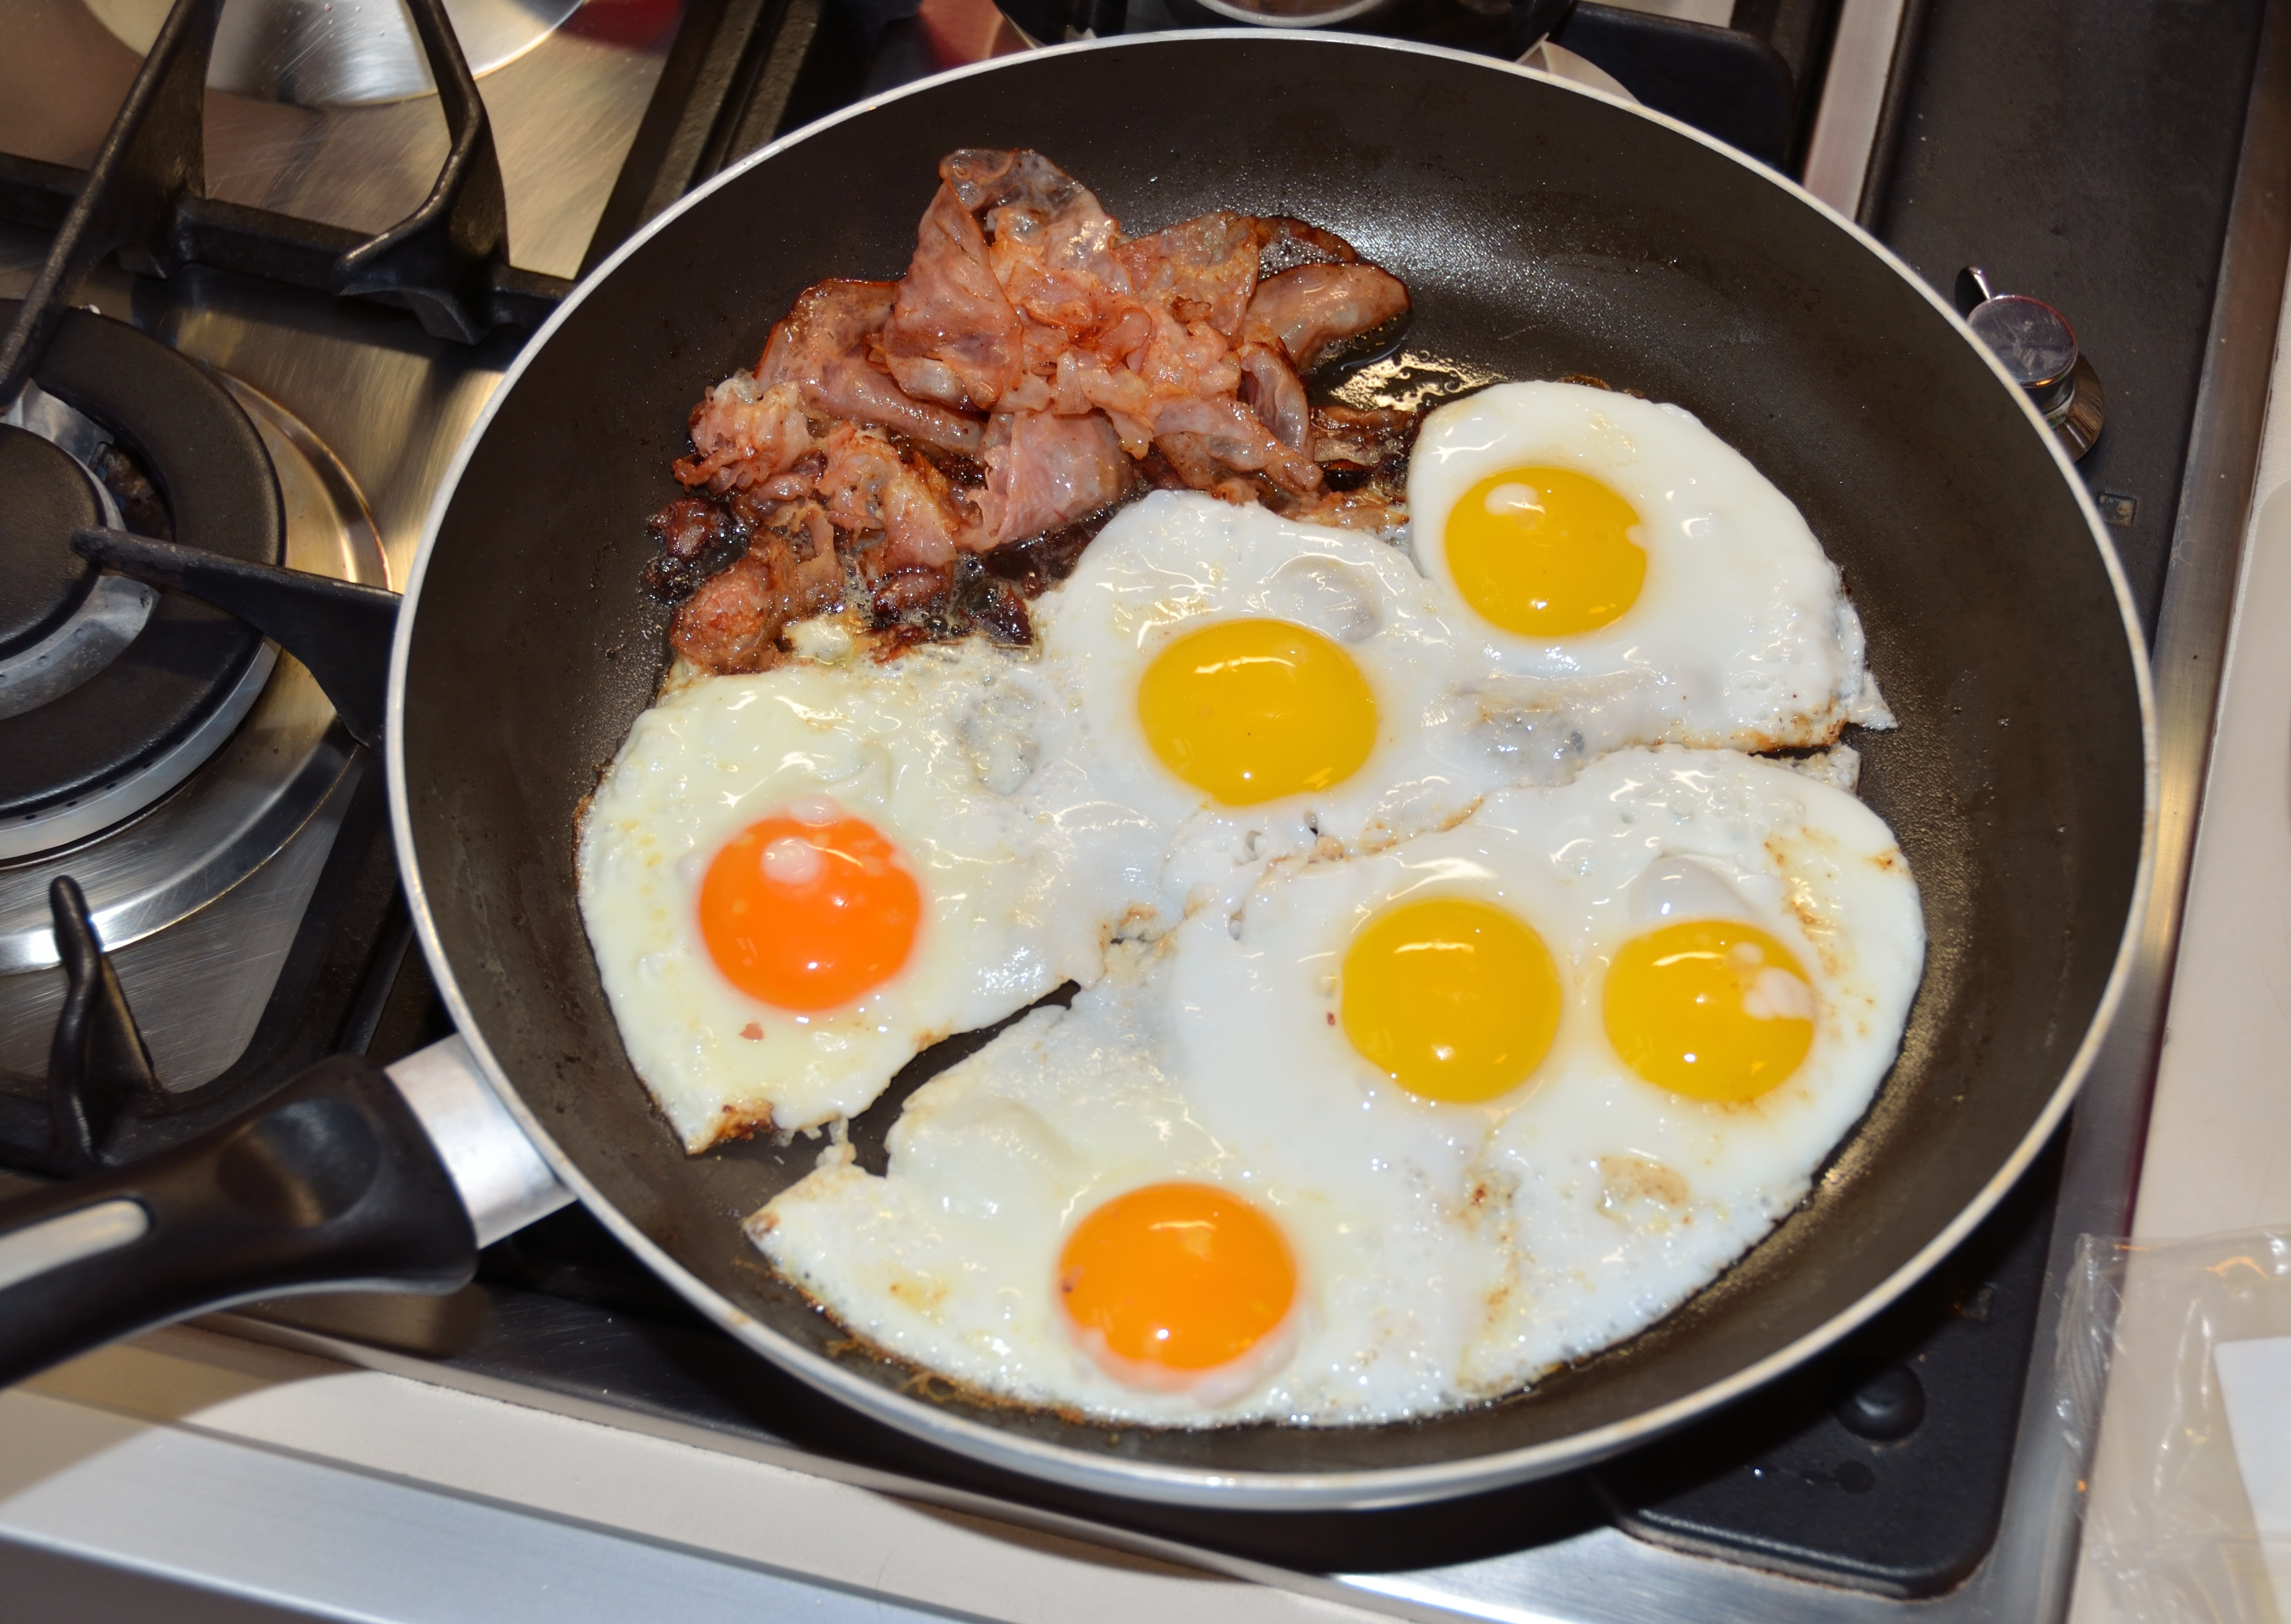fried egg: (657, 707, 1892, 1301)
